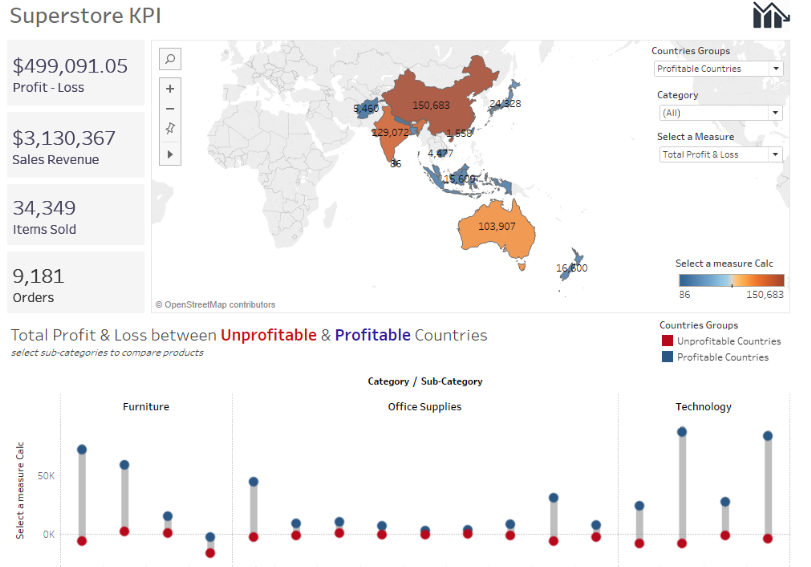

This screenshot's page, from the dashboard's own definition file:
{"tool":"tableau","page":{"name":"Superstore KPI","canvas":[1000,800],"ordinal":2},"visuals":[{"type":"text","box":[8,8,929,55]},{"type":"dashboard-object","box":[937,8,55,55]},{"type":"worksheet","title":"Profit-Loss KPI","mark":"Automatic","box":[8,63,179,90.2]},{"type":"worksheet","title":"APAC profit","mark":"Automatic","box":[187,63,805,349]},{"type":"filter","title":"Profit-Loss KPI","param":"[federated.0v59fu308n6l9j12qh2g60fbx9nm].[Country Groups]","box":[815,72,168,57]},{"type":"filter","title":"Sub-Cat Profit-Loss Compare","param":"[federated.0v59fu308n6l9j12qh2g60fbx9nm].[none:Category:nk]","box":[822,127,160,44]},{"type":"worksheet","title":"Sales KPI","mark":"Automatic","box":[8,153.2,179,90.2]},{"type":"parameter","param":"[Parameters].[Parameter 2]","box":[822,179,160,44]},{"type":"worksheet","title":"Quantity KPI","mark":"Automatic","box":[8,243.4,179,84]},{"type":"worksheet","title":"Orders KPI","mark":"Automatic","box":[8,327.4,179,84.6]},{"type":"legend","title":"APAC profit","param":"[federated.0v59fu308n6l9j12qh2g60fbx9nm].[usr:Calculation_312718700098433029:qk]","box":[845,337,140,55]},{"type":"worksheet","title":"Sub-Cat Profit-Loss Compare","mark":"Line","rows":["Calculation_312718700098433029","Calculation_312718700098433029"],"cols":["Category","Sub-Category"],"box":[8,412,984,380]},{"type":"legend","title":"Sub-Cat Profit-Loss Compare","param":"[federated.0v59fu308n6l9j12qh2g60fbx9nm].[Country Groups]","box":[825,414,156,58]}]}

Visuals, with their boxes on the page's 1000x800 design canvas (x1, y1, x2, y2). These are canvas units, not pixel positions in the 811x567 screenshot, which may show the page scaled, cropped or inside an application window:
text: <box>8,8,937,63</box>
dashboard-object: <box>937,8,992,63</box>
"Profit-Loss KPI" worksheet: <box>8,63,187,153</box>
"APAC profit" worksheet: <box>187,63,992,412</box>
"Profit-Loss KPI" filter: <box>815,72,983,129</box>
"Sub-Cat Profit-Loss Compare" filter: <box>822,127,982,171</box>
"Sales KPI" worksheet: <box>8,153,187,243</box>
parameter: <box>822,179,982,223</box>
"Quantity KPI" worksheet: <box>8,243,187,327</box>
"Orders KPI" worksheet: <box>8,327,187,412</box>
"APAC profit" legend: <box>845,337,985,392</box>
"Sub-Cat Profit-Loss Compare" worksheet (Line marks): <box>8,412,992,792</box>
"Sub-Cat Profit-Loss Compare" legend: <box>825,414,981,472</box>
